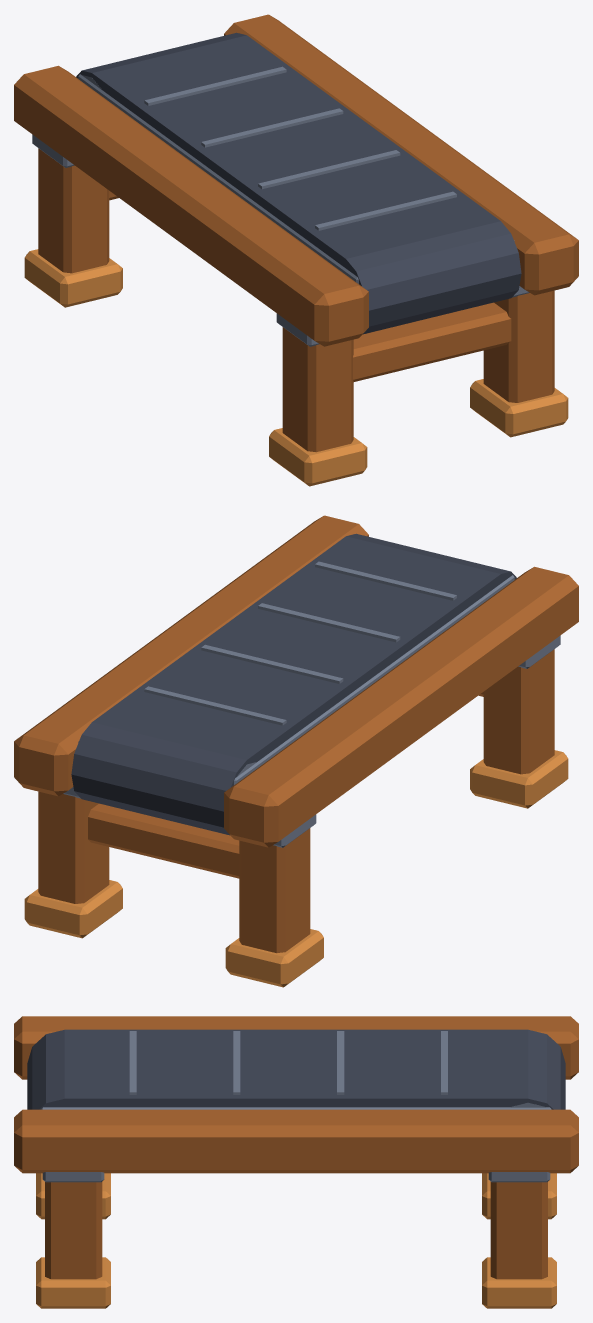
Rendered from Conveyor.fbx.
The picture shows the model from 3 angles, top to bottom: view 1: azimuth 30°, elevation 25°; view 2: azimuth 150°, elevation 25°; view 3: azimuth 270°, elevation 25°; orthographic projection. The views are drawn at different scales.
Visible parts, largest first — view 1: Belt_ContinuousLoop, Frame_SideRail_L, Frame_SideRail_R, Frame_Leg_LF, Frame_Crossbar, Frame_Leg_LB, Frame_Leg_RF, Frame_Foot_LF, Frame_Foot_RF, Frame_Foot_LB, Frame_InnerSteelStrip_L, Belt_Cleat_2 (+3 smaller); view 2: Belt_ContinuousLoop, Frame_SideRail_L, Frame_SideRail_R, Frame_Leg_LB, Frame_Leg_LF, Frame_Leg_RB, Frame_Crossbar.001, Frame_Foot_LB, Frame_Foot_RB, Frame_Foot_LF, Frame_InnerSteelStrip_L, Belt_Cleat_2 (+3 smaller); view 3: Belt_ContinuousLoop, Frame_SideRail_R, Frame_SideRail_L, Frame_Leg_RB, Frame_Leg_RF, Frame_Foot_RB, Frame_Foot_RF, Frame_InnerSteelStrip_R, Frame_Foot_LB, Frame_Foot_LF, Frame_LegMetalCap_RB, Frame_LegMetalCap_RF (+4 smaller).
Boxes of the visible parts, x1,y1,x2,y2 form: Belt_ContinuousLoop: [76, 32, 521, 334]; Frame_SideRail_L: [14, 65, 368, 346]; Frame_SideRail_R: [224, 14, 578, 295]; Frame_Leg_LF: [282, 327, 353, 452]; Frame_Crossbar: [353, 302, 511, 381]; Frame_Leg_LB: [38, 148, 109, 273]; Frame_Leg_RF: [483, 290, 554, 402]; Frame_Foot_LF: [269, 428, 367, 486]; Frame_Foot_RF: [470, 379, 568, 437]; Frame_Foot_LB: [24, 249, 122, 307]; Frame_InnerSteelStrip_L: [78, 74, 358, 283]; Belt_Cleat_2: [201, 108, 343, 147]; Belt_ContinuousLoop: [71, 533, 516, 835]; Frame_SideRail_L: [224, 566, 578, 847]; Frame_SideRail_R: [14, 515, 368, 796]; Frame_Leg_LB: [239, 828, 310, 953]; Frame_Leg_LF: [483, 649, 554, 774]; Frame_Leg_RB: [38, 791, 109, 903]; Frame_Crossbar.001: [88, 803, 239, 878]; Frame_Foot_LB: [225, 929, 323, 987]; Frame_Foot_RB: [24, 880, 122, 938]; Frame_Foot_LF: [470, 750, 568, 808]; Frame_InnerSteelStrip_L: [234, 575, 514, 784]; Belt_Cleat_2: [201, 644, 343, 683]; Belt_ContinuousLoop: [27, 1029, 565, 1109]; Frame_SideRail_R: [14, 1109, 578, 1173]; Frame_SideRail_L: [14, 1016, 578, 1079]; Frame_Leg_RB: [490, 1182, 547, 1279]; Frame_Leg_RF: [45, 1182, 102, 1279]; Frame_Foot_RB: [482, 1257, 556, 1308]; Frame_Foot_RF: [36, 1257, 110, 1308]; Frame_InnerSteelStrip_R: [41, 1107, 551, 1109]; Frame_Foot_LB: [482, 1173, 556, 1219]; Frame_Foot_LF: [36, 1173, 110, 1219]; Frame_LegMetalCap_RB: [488, 1172, 550, 1182]; Frame_LegMetalCap_RF: [42, 1172, 104, 1182].
Bounding box in the file's own units: 1.26 × 0.953 × 2.56.
